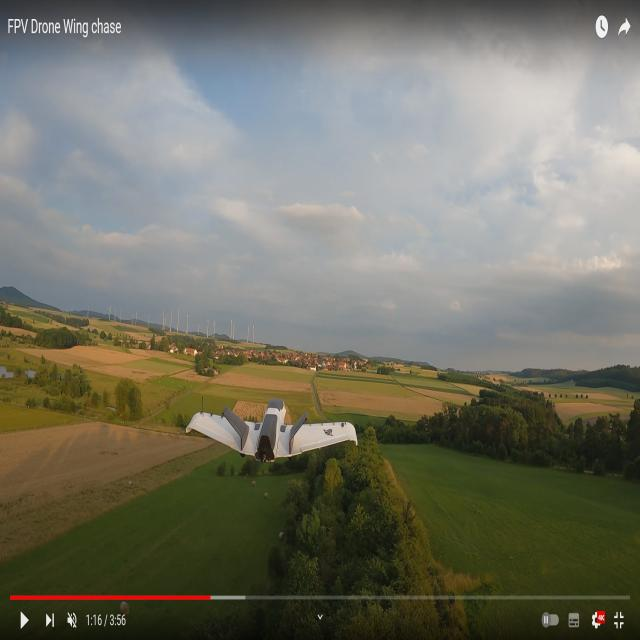iha: (197, 403, 358, 465)
